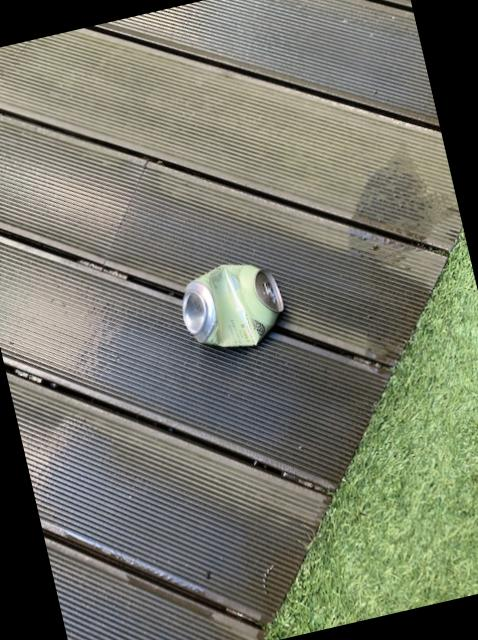metal: (183, 263, 284, 345)
